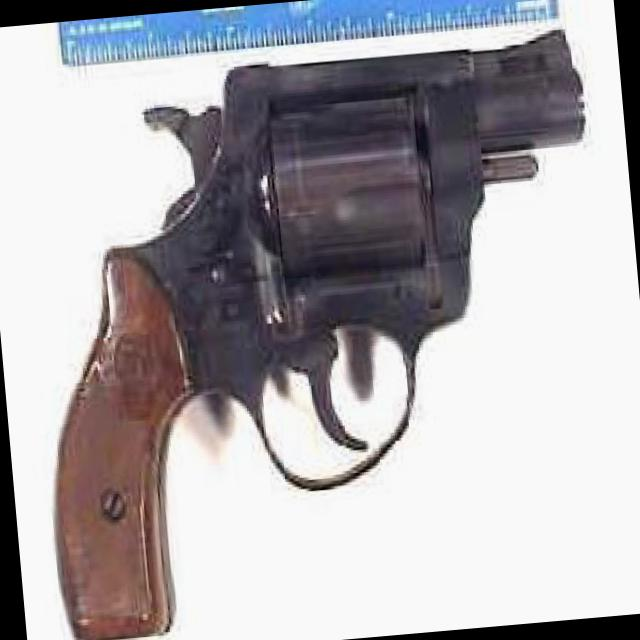handgun: (2, 19, 623, 639)
